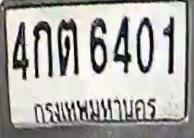0: (136, 16, 154, 74)
1: (162, 16, 175, 74)
4: (112, 16, 132, 73), (12, 21, 28, 80)
6: (89, 17, 107, 74)
A01: (32, 20, 53, 78)
A21: (56, 18, 80, 77)
BKK: (33, 96, 160, 121)
